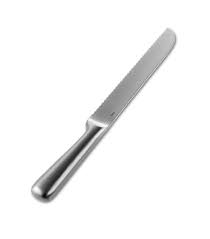breadknife: (32, 25, 177, 203)
